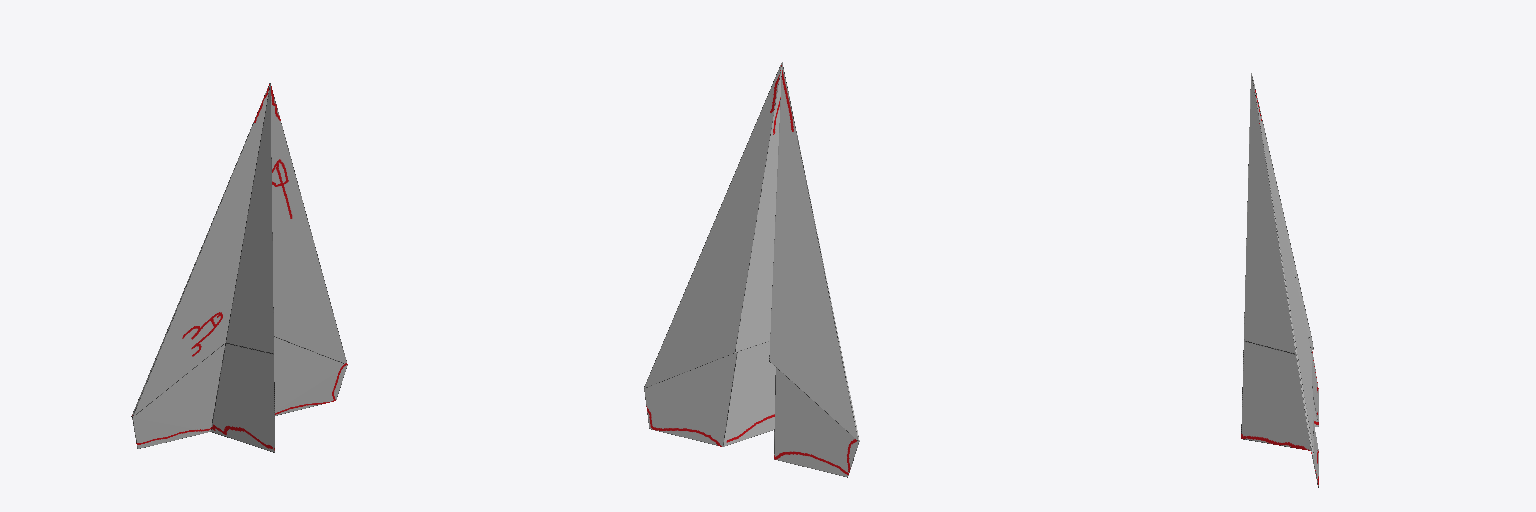
3 renders of one model, left to right at view 1: azimuth 30°, elevation 25°; view 2: azimuth 150°, elevation 25°; view 3: azimuth 270°, elevation 25°, orthographic.
Parts seen in each view (by area): view 1: Cube; view 2: Cube; view 3: Cube.
Part boxes in pixels (bbox=[...]): Cube: bbox=[131, 83, 347, 452]; Cube: bbox=[644, 62, 859, 477]; Cube: bbox=[1241, 73, 1318, 487].
Bounding box in the file's own units: 185 × 300 × 57.77.
Materials: 1 (1 with a texture image).